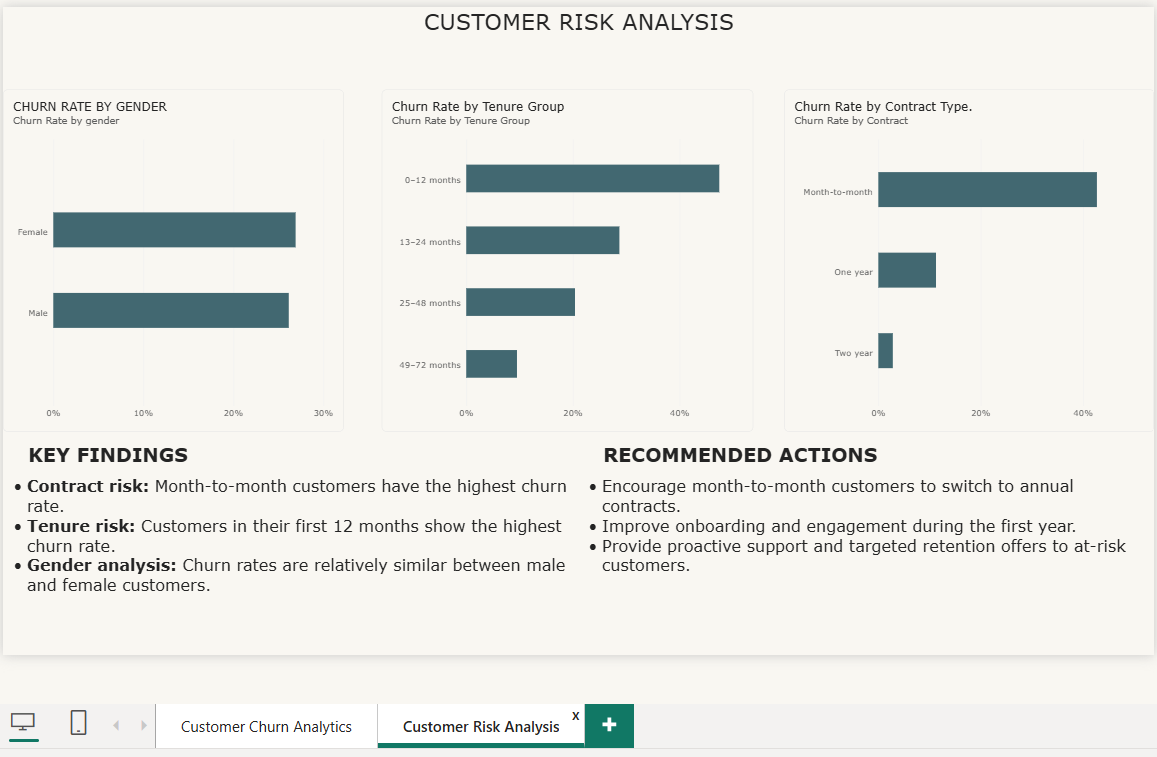

Layout of this report page (visuals, bound fields, positions):
{"tool":"powerbi","page":{"name":"Customer Risk Analysis","canvas":[1920,1080],"ordinal":1},"visuals":[{"type":"clusteredBarChart","title":"CHURN RATE BY GENDER","fields":{"Category":["WA_Fn-UseC_-Telco-Customer-Churn.gender"],"Y":["WA_Fn-UseC_-Telco-Customer-Churn.Churn Rate"]},"box":[0,137.9,568.1,570.2],"z":0},{"type":"clusteredBarChart","title":"Churn Rate by Tenure Group","fields":{"Category":["WA_Fn-UseC_-Telco-Customer-Churn.Tenure Group"],"Y":["WA_Fn-UseC_-Telco-Customer-Churn.Churn Rate"]},"box":[631.9,137.9,619.6,570.2],"z":1000},{"type":"clusteredBarChart","title":"Churn Rate by Contract Type.","fields":{"Category":["WA_Fn-UseC_-Telco-Customer-Churn.Contract"],"Y":["WA_Fn-UseC_-Telco-Customer-Churn.Churn Rate"]},"box":[1302.9,137.9,617.5,570.2],"z":2000},{"type":"textbox","box":[0,708.1,959.2,372.6],"z":3000},{"type":"textbox","box":[0,0,1920.4,137.9],"z":4000},{"type":"textbox","box":[959.2,708.1,961.2,372.6],"z":4001}]}

Visuals, with their boxes on the page's 1920x1080 design canvas (x1, y1, x2, y2). These are canvas units, not pixel positions in the 1157x757 screenshot, which may show the page scaled, cropped or inside an application window:
"CHURN RATE BY GENDER" clusteredBarChart: x1=0 y1=138 x2=568 y2=708
"Churn Rate by Tenure Group" clusteredBarChart: x1=632 y1=138 x2=1252 y2=708
"Churn Rate by Contract Type." clusteredBarChart: x1=1303 y1=138 x2=1920 y2=708
textbox: x1=0 y1=708 x2=959 y2=1081
textbox: x1=0 y1=0 x2=1920 y2=138
textbox: x1=959 y1=708 x2=1920 y2=1081
